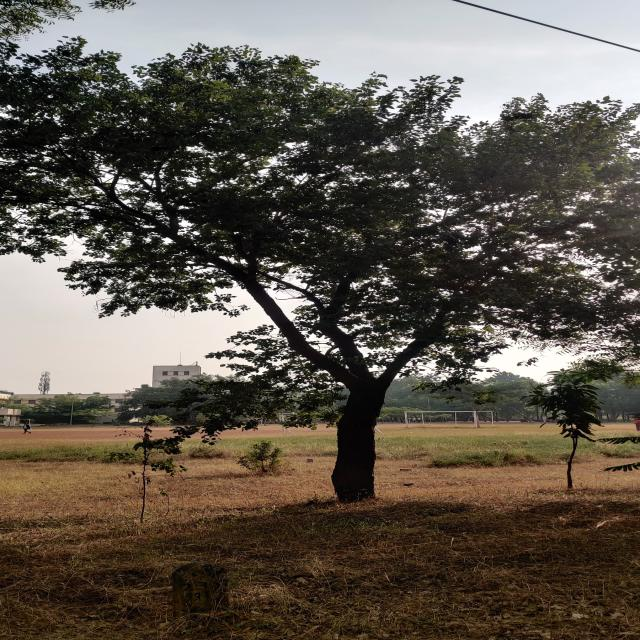Devakanchan tree: (41, 94, 622, 510)
